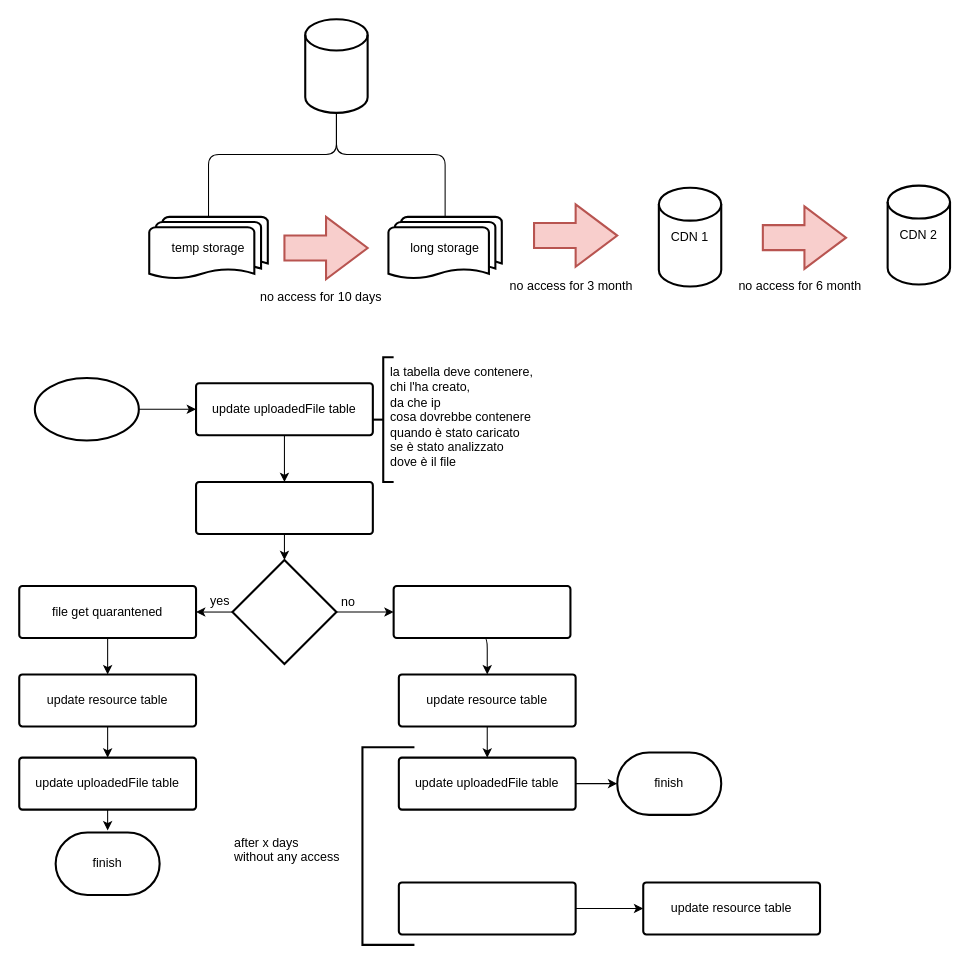
The diagram is 968 pixels wide and 963 high, and some of its shapes have lost their labels. The centre of each missing label's shape, as x and y in pixels:
contains malaware: [284,611]
file get accepted: [481,611]
file get checked: [283,507]
file get moved: [486,908]
file uploaded: [86,408]
main server: [336,65]
